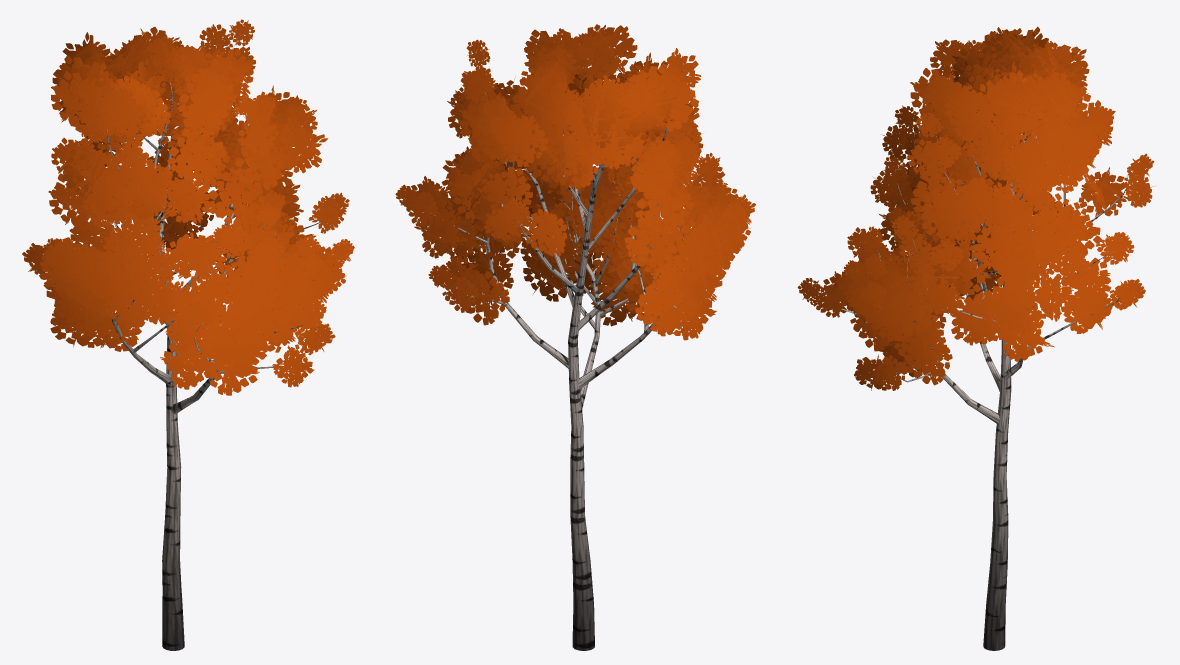
The model's file is Birch_4.gltf.
3 renders of one model, left to right at view 1: azimuth 30°, elevation 25°; view 2: azimuth 150°, elevation 25°; view 3: azimuth 270°, elevation 25°, orthographic. The views are drawn at different scales.
Parts seen in each view (by area): view 1: Birch_4; view 2: Birch_4; view 3: Birch_4.
Part boxes in pixels (bbox=[...]): Birch_4: bbox=[22, 19, 354, 650]; Birch_4: bbox=[395, 24, 755, 650]; Birch_4: bbox=[797, 26, 1154, 650].
Size of the model in its own units: 6.24 by 11.62 by 6.64.
Materials: 2 (2 with a texture image).
